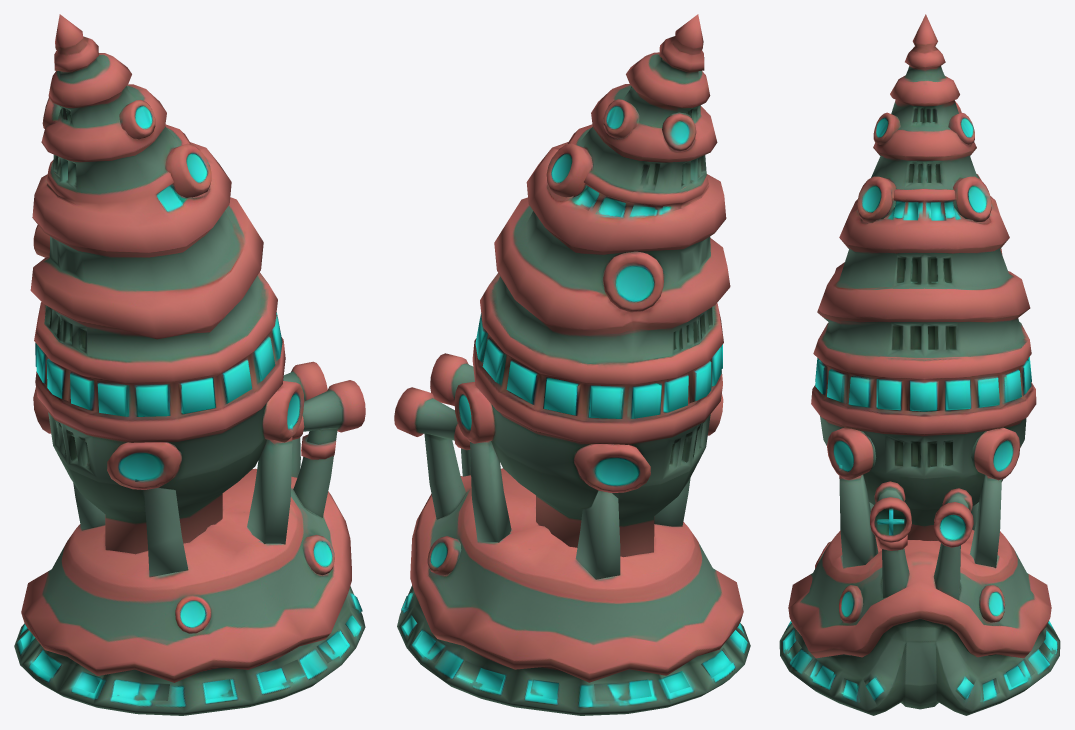
The model's file is water_snail.glb.
3 views of the same model, side by side, from view 1: azimuth 30°, elevation 25°; view 2: azimuth 150°, elevation 25°; view 3: azimuth 270°, elevation 25° (orthographic). The views are drawn at different scales.
Visible parts, largest first — view 1: tripo_node_9c122bf8-72db-4c69-b022-ae60a614d343; view 2: tripo_node_9c122bf8-72db-4c69-b022-ae60a614d343; view 3: tripo_node_9c122bf8-72db-4c69-b022-ae60a614d343.
Part boxes in pixels (x1,y1,x2,y2): tripo_node_9c122bf8-72db-4c69-b022-ae60a614d343: (14,14,365,715); tripo_node_9c122bf8-72db-4c69-b022-ae60a614d343: (394,14,750,715); tripo_node_9c122bf8-72db-4c69-b022-ae60a614d343: (779,14,1060,715).
Size of the model in its own units: 0.48 by 0.9995 by 0.4341.
1 material, 1 textured.
